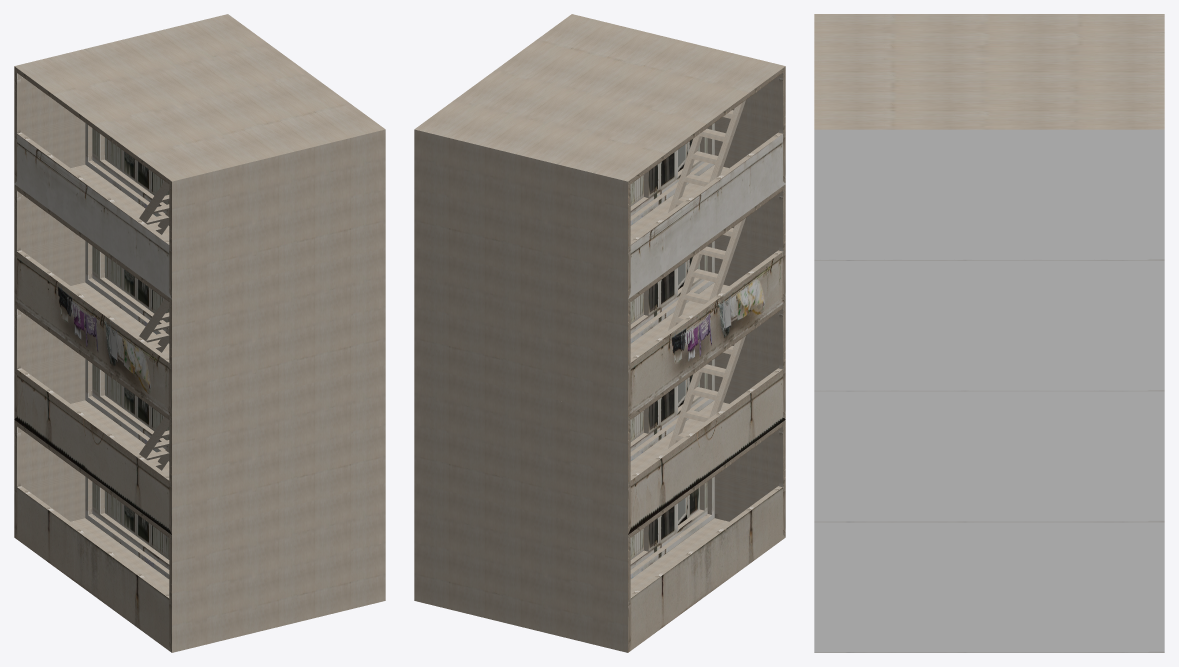
Rendered from building06b.fbx.
The picture shows the model from 3 angles, left to right: view 1: azimuth 30°, elevation 25°; view 2: azimuth 150°, elevation 25°; view 3: azimuth 270°, elevation 25°; orthographic projection. The views are drawn at different scales.
Visible parts, largest first — view 1: building06b; view 2: building06b; view 3: building06b.
Part boxes in pixels (x1,y1,x2,y2): building06b: (14,14,385,652); building06b: (414,14,785,652); building06b: (814,14,1164,652).
Size of the model in its own units: 78.44 by 165 by 100.
